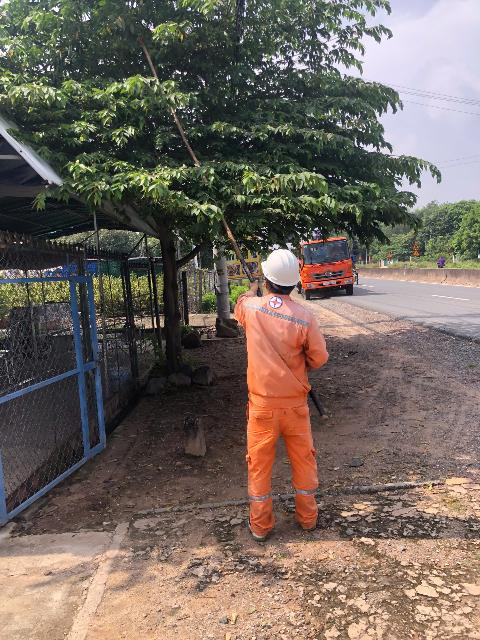helmet: (250, 244, 318, 294)
shoes: (242, 514, 277, 551)
